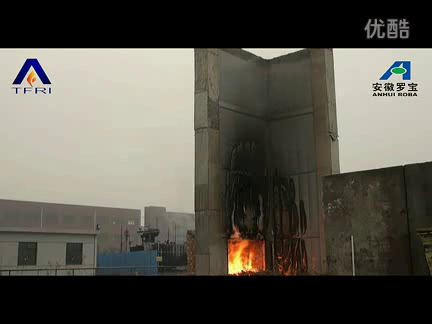fire: (227, 240, 256, 276)
